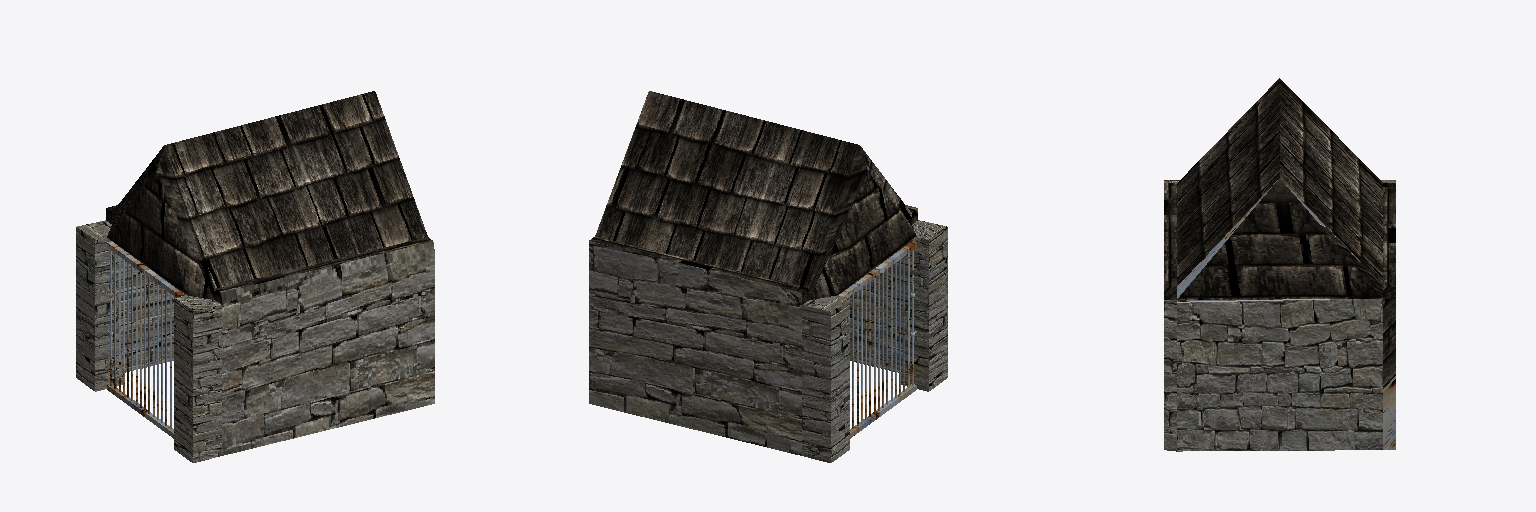
3 views of the same model, side by side, from view 1: azimuth 30°, elevation 25°; view 2: azimuth 150°, elevation 25°; view 3: azimuth 270°, elevation 25° (orthographic).
Parts seen in each view (by area): view 1: Cube.000_Cube.016; view 2: Cube.000_Cube.016; view 3: Cube.000_Cube.016.
Boxes of the visible parts, x1=… form: Cube.000_Cube.016: x1=76, y1=91, x2=434, y2=462; Cube.000_Cube.016: x1=589, y1=91, x2=947, y2=462; Cube.000_Cube.016: x1=1164, y1=78, x2=1395, y2=451.
Bounding box in the file's own units: 23.56 × 25.28 × 19.58.
1 materials, 1 textured.